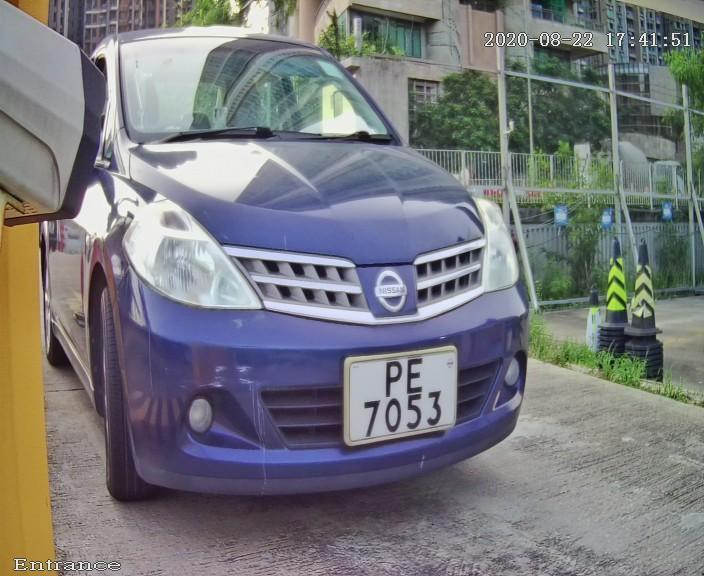Car: (26, 3, 591, 535)
License Plate: (334, 340, 466, 453)
